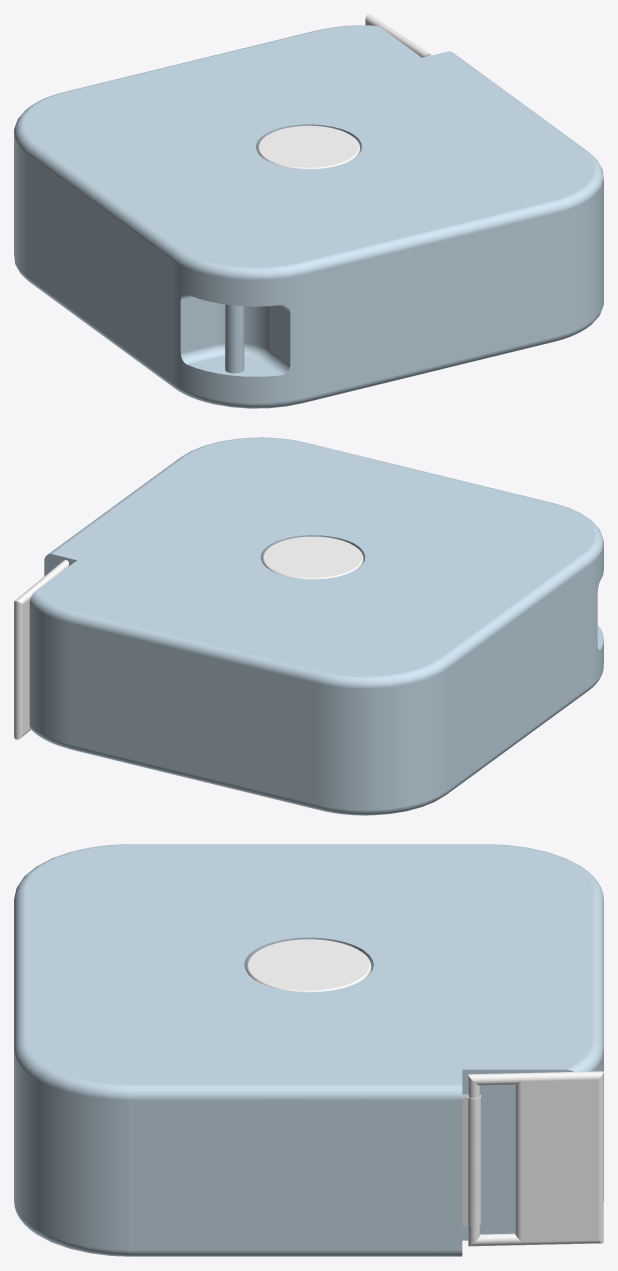
The model's file is 250_メジャー.glb.
3 renders of one model, top to bottom at view 1: azimuth 30°, elevation 25°; view 2: azimuth 150°, elevation 25°; view 3: azimuth 270°, elevation 25°, orthographic. The views are drawn at different scales.
Parts seen in each view (by area): view 1: Body1, 引き出し部分; view 2: Body1, 引き出し部分; view 3: Body1, 引き出し部分.
Part boxes in pixels (<box>): Body1: <box>14,25,603,408</box>; 引き出し部分: <box>365,14,430,57</box>; Body1: <box>29,437,603,815</box>; 引き出し部分: <box>14,560,68,739</box>; Body1: <box>14,844,603,1256</box>; 引き出し部分: <box>462,1071,603,1246</box>.
Size of the model in its own units: 0.05 by 0.016 by 0.05.
